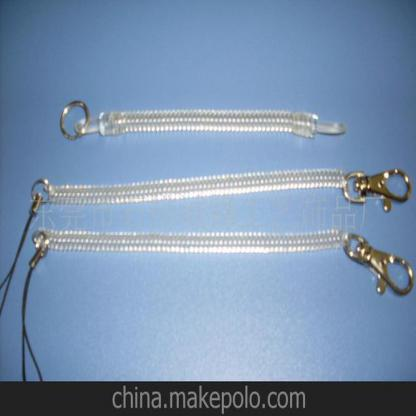FOD: (57, 98, 347, 146)
